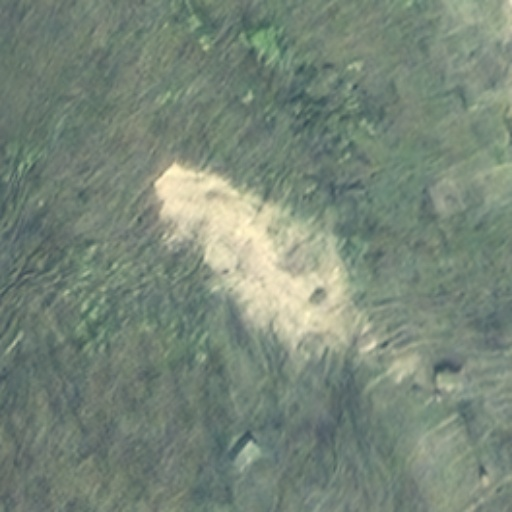landslide: (154, 162, 365, 354)
